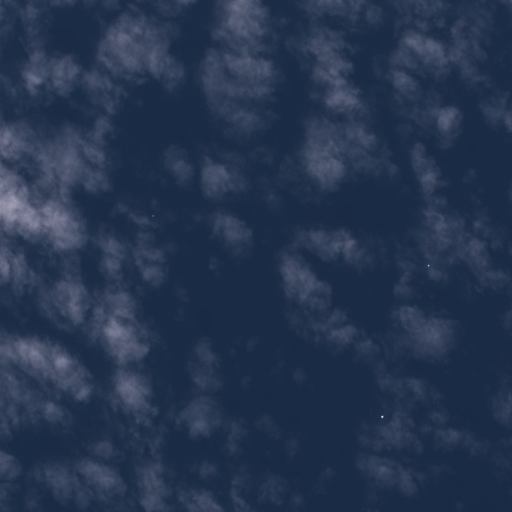Iceberg: (381, 415, 383, 418), (427, 264, 429, 266), (152, 215, 153, 216)
